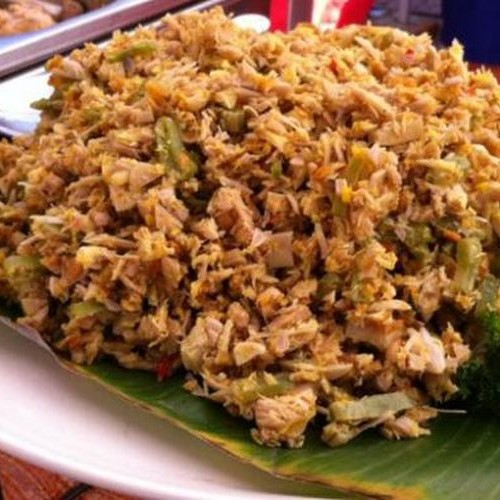lawar: (67, 59, 485, 392)
